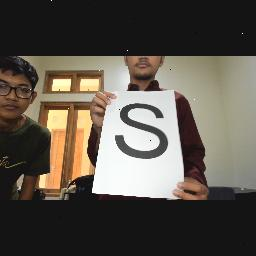s: (111, 102, 171, 170)
